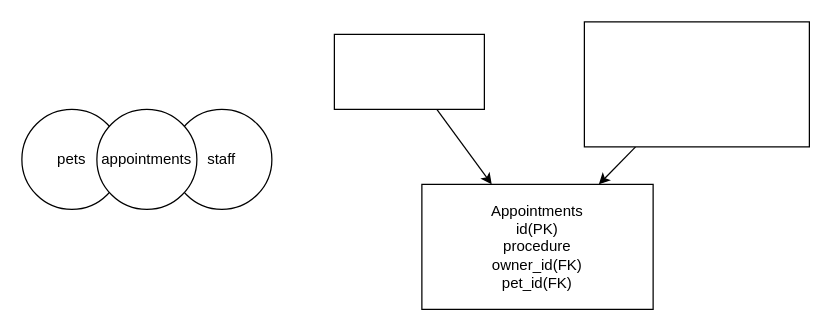
Some shapes in this 831 by 331 pixel diagram are drawn without their labels. The shapes that lost their labels are listed below. From the top down, each one's box as (x1, y1, x2, y2) in pixels, then its label:
(333, 33, 484, 109): Owners id(PK) name
(583, 21, 809, 147): Pets id(PK) name breed age owner_id(FK)
